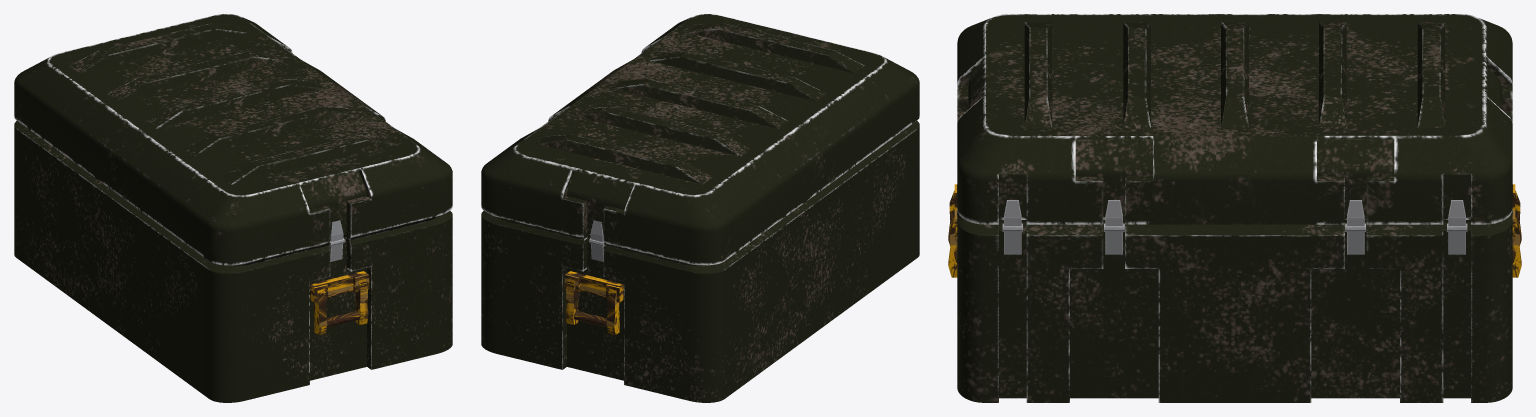
Rendered from WeaponCrate.fbx.
The picture shows the model from 3 angles, left to right: view 1: azimuth 30°, elevation 25°; view 2: azimuth 150°, elevation 25°; view 3: azimuth 270°, elevation 25°; orthographic projection. The views are drawn at different scales.
Visible parts, largest first — view 1: Lid, Body, Handle; view 2: Lid, Body, Handle; view 3: Lid, Body, Handle, HingeFront2, HingeFront1.
Part boxes in pixels (box(x1,y1,x2,y2)): Lid: box(14, 14, 452, 265); Body: box(14, 121, 452, 402); Handle: box(310, 271, 369, 334); Lid: box(481, 14, 919, 265); Body: box(481, 121, 919, 402); Handle: box(564, 271, 623, 334); Lid: box(957, 14, 1512, 224); Body: box(957, 210, 1512, 402); Handle: box(948, 184, 1521, 277); HingeFront2: box(1104, 223, 1365, 254); HingeFront1: box(1002, 223, 1467, 254).
Size of the model in its own units: 130 by 105 by 206.
